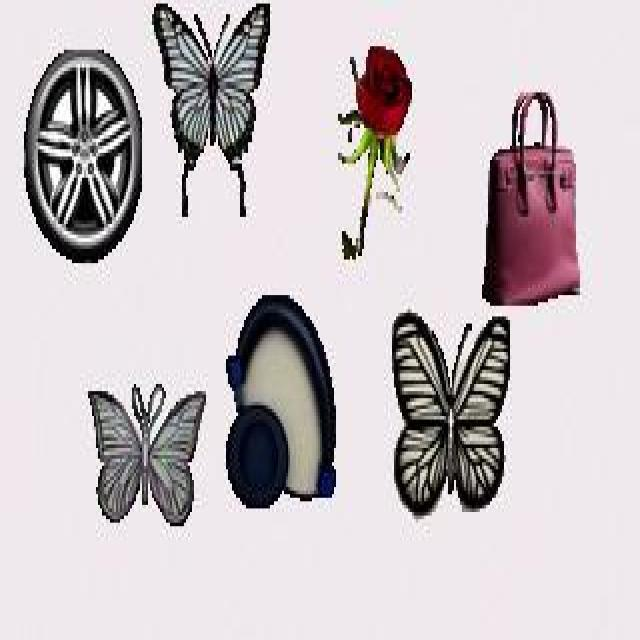Other Objects: (152, 1, 270, 216), (392, 308, 509, 520), (225, 296, 338, 509), (481, 90, 581, 306), (87, 383, 206, 526), (338, 43, 412, 258)
